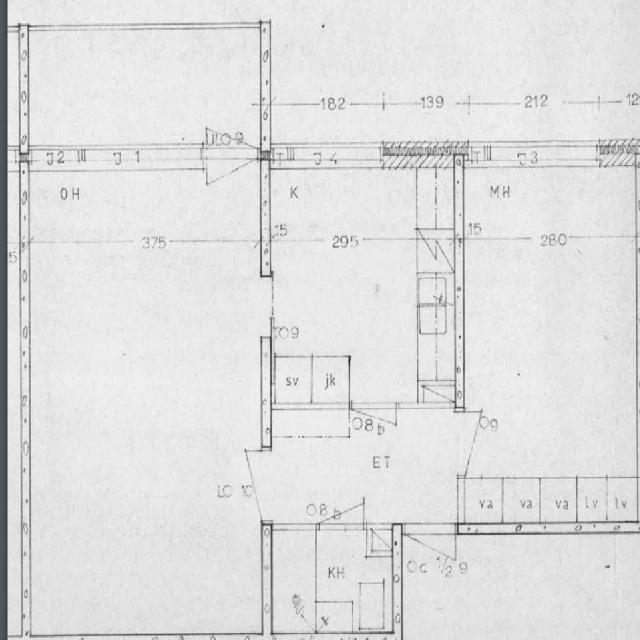door: (206, 451, 270, 519), (207, 147, 257, 222), (207, 84, 257, 159), (454, 412, 514, 473), (406, 523, 454, 595), (352, 402, 396, 465), (320, 470, 363, 530)
